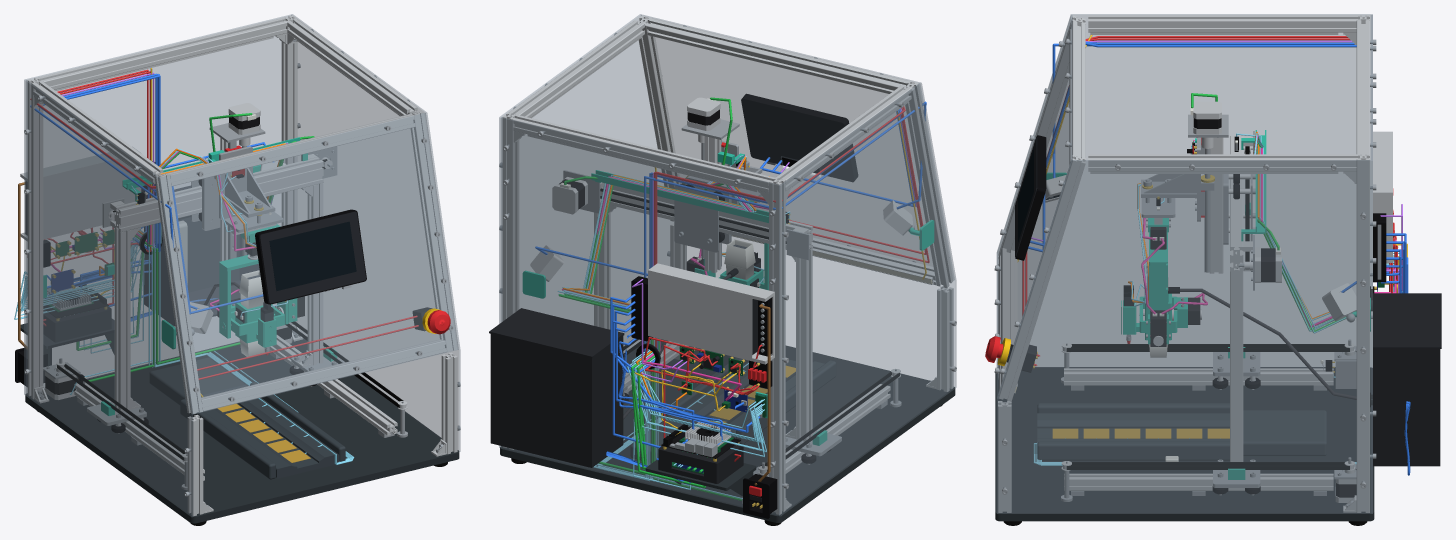
The model's file is vscan_wired.glb.
The picture shows the model from 3 angles, left to right: view 1: azimuth 30°, elevation 25°; view 2: azimuth 150°, elevation 25°; view 3: azimuth 270°, elevation 25°; orthographic projection. The views are drawn at different scales.
Parts seen in each view (by area): view 1: front_panel_slanted, wall_side, wall_back, wall_side_2, base_plate, psu_24V_350W__case, frame_post_back, touchscreen_7in__active_area, frame_top_rail_back, arm_rest_pad, light_box_shell, front_panel_rail (+44 smaller); view 2: wall_side, wall_back, front_panel_slanted, wall_side_2, base_plate, light_box_shell, psu_24V_350W__case, touchscreen_7in__case, front_panel_cross_rail_2, frame_post_back, frame_top_rail_back, light_box_lid (+54 smaller); view 3: wall_side_2, wall_side, base_plate, front_panel_slanted, light_box_shell, frame_post_back_2, frame_top_rail_side, frame_top_rail_side_2, arm_rest_pad, y_rail_2020, y_rail_2020_2, hand_pad (+44 smaller).
Boxes of the visible parts, <box> form: front_panel_slanted: <box>160,113,458,414</box>; wall_side: <box>24,79,192,516</box>; wall_back: <box>26,14,291,393</box>; wall_side_2: <box>291,14,460,451</box>; base_plate: <box>25,338,459,523</box>; psu_24V_350W__case: <box>20,146,140,240</box>; frame_post_back: <box>27,77,43,399</box>; touchscreen_7in__active_area: <box>269,221,356,291</box>; frame_top_rail_back: <box>38,18,287,89</box>; arm_rest_pad: <box>204,397,339,478</box>; light_box_shell: <box>144,219,259,325</box>; front_panel_rail: <box>154,173,202,413</box>; wall_side: <box>779,82,956,515</box>; wall_back: <box>501,117,779,515</box>; front_panel_slanted: <box>641,15,954,280</box>; wall_side_2: <box>499,14,673,447</box>; base_plate: <box>500,339,955,522</box>; light_box_shell: <box>490,334,623,467</box>; psu_24V_350W__case: <box>648,263,774,364</box>; touchscreen_7in__case: <box>741,94,857,181</box>; front_panel_cross_rail_2: <box>646,18,907,93</box>; frame_post_back: <box>769,177,785,514</box>; frame_top_rail_back: <box>513,115,774,192</box>; light_box_lid: <box>489,308,624,358</box>; wall_side_2: <box>997,160,1372,513</box>; wall_side: <box>997,14,1372,367</box>; base_plate: <box>995,367,1374,521</box>; front_panel_slanted: <box>997,15,1072,398</box>; light_box_shell: <box>1373,349,1440,466</box>; frame_post_back_2: <box>1356,154,1369,512</box>; frame_top_rail_side: <box>1088,15,1356,32</box>; frame_top_rail_side_2: <box>1088,154,1356,171</box>; arm_rest_pad: <box>1037,413,1229,442</box>; y_rail_2020: <box>1064,368,1333,385</box>; y_rail_2020_2: <box>1064,473,1333,490</box>; hand_pad: <box>1243,410,1326,456</box>.
Bounding box in the file's own units: 526 × 604 × 677.
